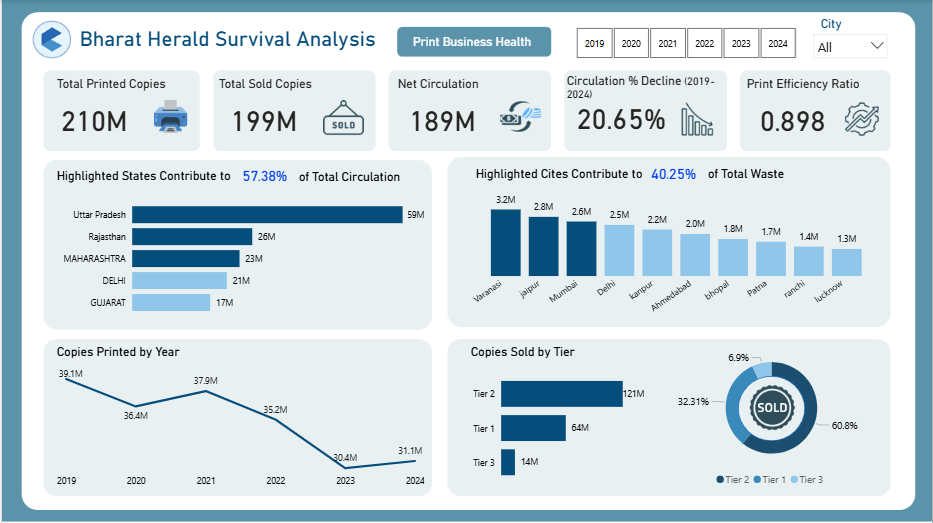

The page's visual inventory and layout, read from the dashboard file:
{"tool":"powerbi","page":{"name":"Print Business","canvas":[1280,720],"ordinal":0},"visuals":[{"type":"card","fields":{"Values":["Sum(bharatherald fact_print_sales.copies_printed)"]},"box":[56.8,125.2,140.6,74.8],"z":0},{"type":"card","fields":{"Values":["Sum(bharatherald fact_print_sales.Net_Circulation)"]},"box":[539.4,130.3,132.9,64.5],"z":1000},{"type":"card","fields":{"Values":["bharatherald fact_print_sales.Circulation % decline"]},"box":[765.2,125.2,174.2,69.7],"z":2000},{"type":"card","fields":{"Values":["bharatherald fact_print_sales.Print effeciency ratio"]},"box":[1027.1,125.2,122.6,74.8],"z":3000},{"type":"slicer","fields":{"Values":["bharatherald fact_print_sales.Years"]},"box":[765.2,31.7,351,55.1],"z":4000},{"type":"slicer","fields":{"Values":["bharatherald dim_city.city"]},"box":[1106.6,37.2,122.5,49.5],"z":5000},{"type":"card","fields":{"Values":["Sum(bharatherald fact_print_sales.Copies Sold)"]},"box":[292.9,125.2,134.2,74.8],"z":6000},{"type":"clusteredBarChart","title":"Top 3 States with Circulation","fields":{"Category":["bharatherald dim_city.state"],"Y":["Sum(bharatherald fact_print_sales.Net_Circulation)"]},"box":[70.2,258.8,516.1,187.2],"z":7000},{"type":"lineChart","title":"Copies Printed by Year","fields":{"Category":["bharatherald fact_print_sales.formatted_months.Variation.Date Hierarchy.Year"],"Y":["Sum(bharatherald fact_print_sales.copies_printed)"]},"box":[70.2,473.5,516.1,206.5],"z":8000},{"type":"columnChart","title":"Waste by Cities ","fields":{"Category":["bharatherald dim_city.city"],"Y":["Sum(bharatherald fact_print_sales.waste)"]},"box":[640,250.5,569.8,195.4],"z":9000},{"type":"card","fields":{"Values":["bharatherald fact_print_sales.Top3 Waste %"]},"box":[886.4,221.6,75.7,37.2],"z":10000},{"type":"textbox","box":[646.9,221.6,242.2,34.4],"z":11000},{"type":"textbox","box":[966.2,221.6,121.1,34.4],"z":12000},{"type":"clusteredBarChart","title":"Copies Sold by Tier","fields":{"Category":["bharatherald dim_city.tier"],"Y":["Sum(bharatherald fact_print_sales.Copies Sold)"]},"box":[640,473.5,249.1,206.5],"z":13000},{"type":"pieChart","fields":{"Y":["Sum(bharatherald fact_print_sales.Copies Sold)"],"Category":["bharatherald dim_city.tier"]},"box":[908.4,473.5,301.4,205.1],"z":14000},{"type":"textbox","box":[69.7,100.6,184.5,43.9],"z":15000},{"type":"textbox","box":[292.9,100.6,184.5,43.9],"z":16000},{"type":"textbox","box":[539.4,100.6,184.5,43.9],"z":17000},{"type":"textbox","box":[772.1,96.3,245,63.3],"z":18000},{"type":"textbox","box":[1019.4,100.6,174.2,43.9],"z":19000},{"type":"shape","box":[1013,517.5,92.2,89.5],"z":20000},{"type":"image","box":[1021.2,523,77.1,75.7],"z":21000},{"type":"textbox","box":[101.8,31.7,437.7,44],"z":22000},{"type":"textbox","box":[1121.7,17.9,46.8,37.2],"z":23000},{"type":"textbox","box":[545.8,42.6,201.3,29.7],"z":24000},{"type":"card","fields":{"Values":["bharatherald fact_print_sales.Top3 Circulation % States"]},"box":[317.9,225.7,86.7,34.4],"z":25000},{"type":"textbox","box":[70.2,224.3,258.8,34.4],"z":26000},{"type":"textbox","box":[403.3,225.7,177.5,34.4],"z":27000}]}

Visuals, with their boxes in screenshot pixels (x1, y1, x2, y2), scaled from the page's 1280x720 canvas onto the 933x523 screenshot:
card - Sum(bharatherald fact_print_sales.copies_printed): <region>41, 91, 144, 145</region>
card - Sum(bharatherald fact_print_sales.Net_Circulation): <region>393, 95, 490, 142</region>
card - bharatherald fact_print_sales.Circulation % decline: <region>558, 91, 685, 142</region>
card - bharatherald fact_print_sales.Print effeciency ratio: <region>749, 91, 838, 145</region>
slicer - bharatherald fact_print_sales.Years: <region>558, 23, 814, 63</region>
slicer - bharatherald dim_city.city: <region>807, 27, 896, 63</region>
card - Sum(bharatherald fact_print_sales.Copies Sold): <region>213, 91, 311, 145</region>
"Top 3 States with Circulation" clusteredBarChart: <region>51, 188, 427, 324</region>
"Copies Printed by Year" lineChart: <region>51, 344, 427, 494</region>
"Waste by Cities " columnChart: <region>466, 182, 882, 324</region>
card - bharatherald fact_print_sales.Top3 Waste %: <region>646, 161, 701, 188</region>
textbox: <region>472, 161, 648, 186</region>
textbox: <region>704, 161, 793, 186</region>
"Copies Sold by Tier" clusteredBarChart: <region>466, 344, 648, 494</region>
pieChart - Sum(bharatherald fact_print_sales.Copies Sold) x bharatherald dim_city.tier: <region>662, 344, 882, 493</region>
textbox: <region>51, 73, 185, 105</region>
textbox: <region>213, 73, 348, 105</region>
textbox: <region>393, 73, 528, 105</region>
textbox: <region>563, 70, 741, 116</region>
textbox: <region>743, 73, 870, 105</region>
shape: <region>738, 376, 806, 441</region>
image: <region>744, 380, 801, 435</region>
textbox: <region>74, 23, 393, 55</region>
textbox: <region>818, 13, 852, 40</region>
textbox: <region>398, 31, 545, 53</region>
card - bharatherald fact_print_sales.Top3 Circulation % States: <region>232, 164, 295, 189</region>
textbox: <region>51, 163, 240, 188</region>
textbox: <region>294, 164, 423, 189</region>
